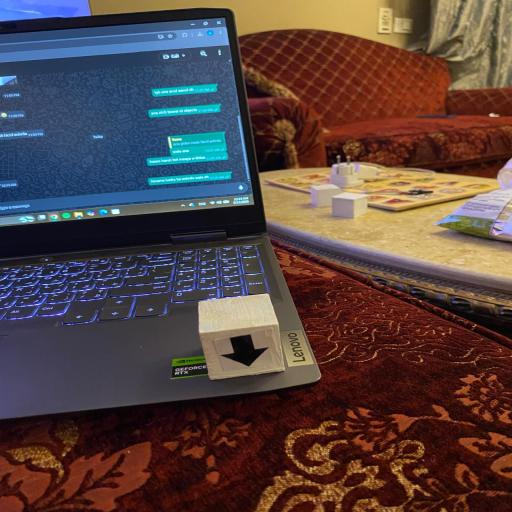Down: (197, 293, 285, 378)
